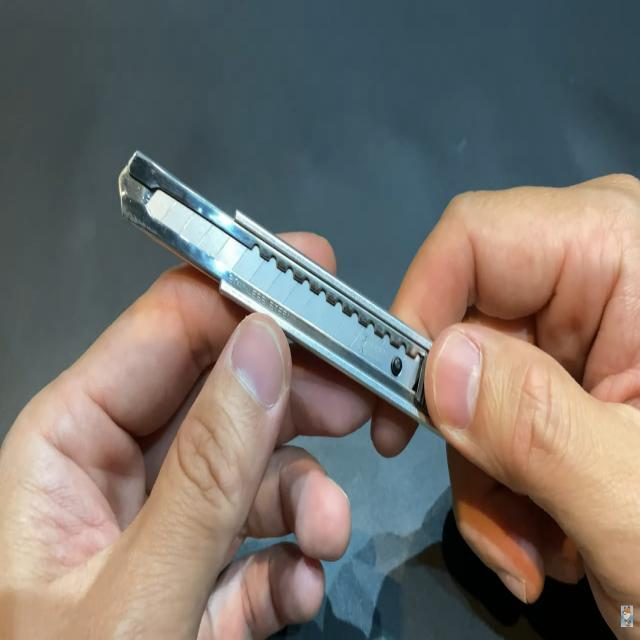cutter: (0, 75, 640, 604)
